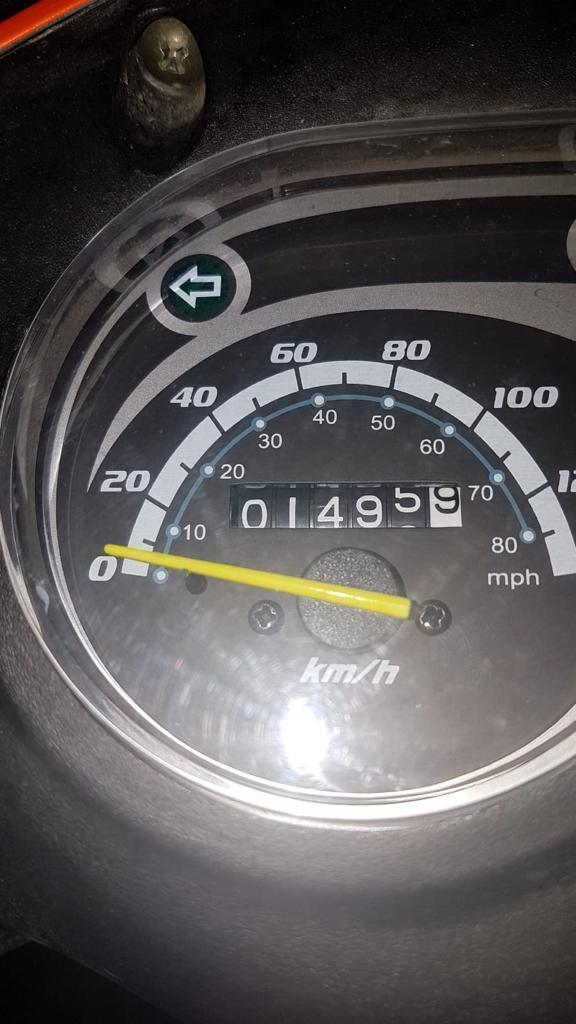0: (239, 497, 268, 528)
1: (281, 493, 301, 529)
4: (312, 493, 345, 530)
5: (392, 485, 423, 516)
9: (352, 491, 385, 529), (432, 483, 462, 514)
odometer: (226, 477, 469, 532)
